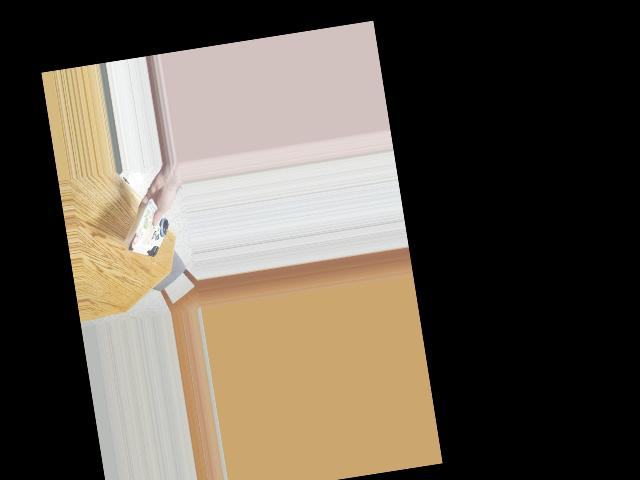cheese: (110, 201, 175, 265)
